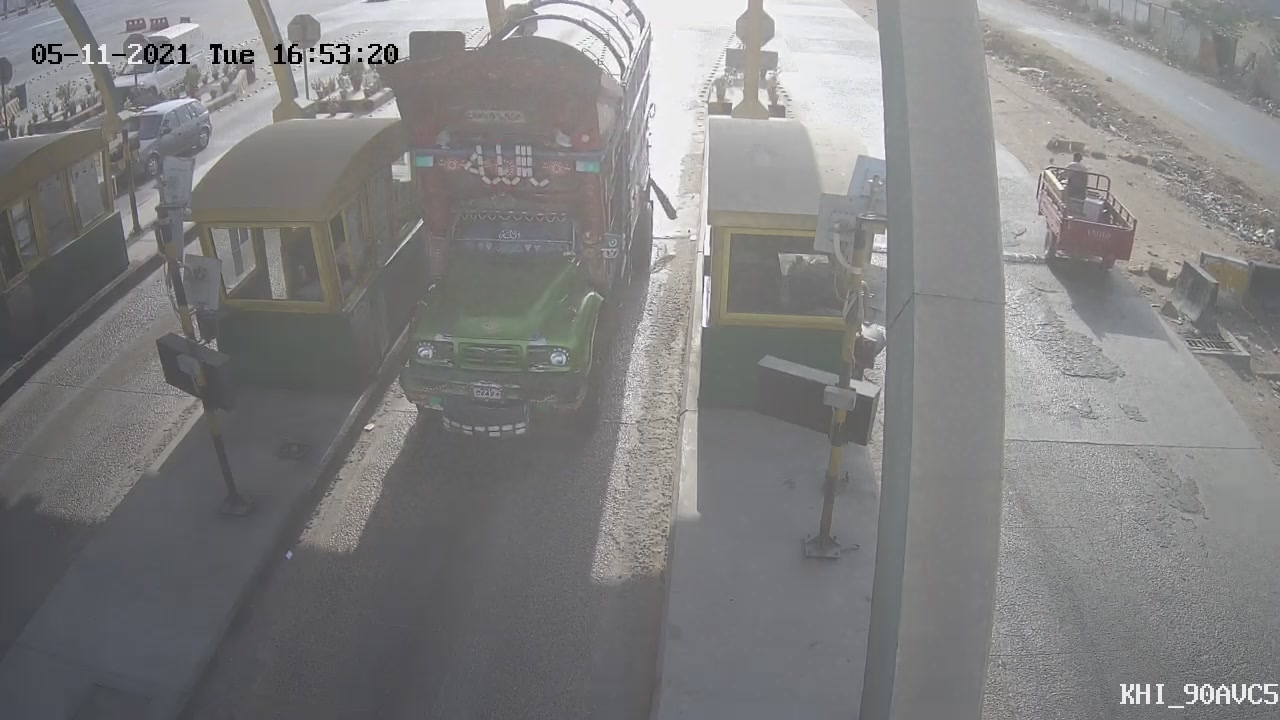F5: (357, 1, 676, 461)
